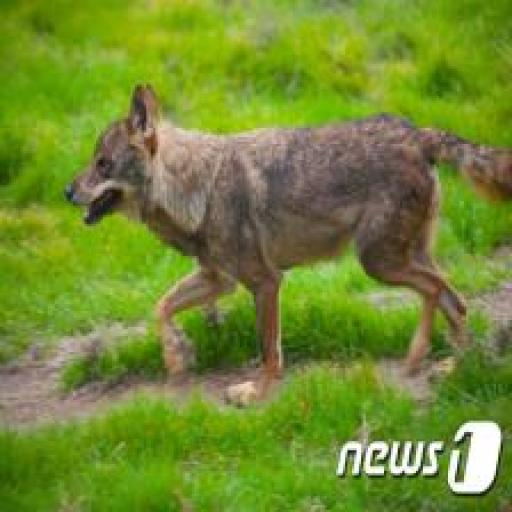wolf: (59, 71, 511, 418)
